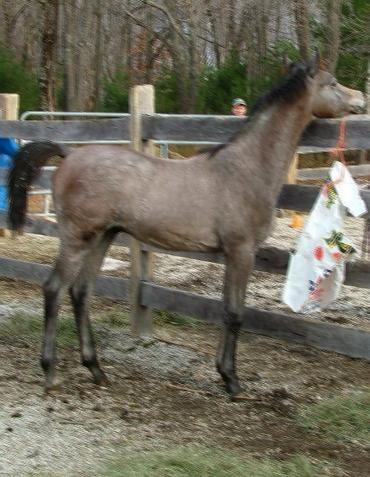horse: (1, 46, 366, 400)
